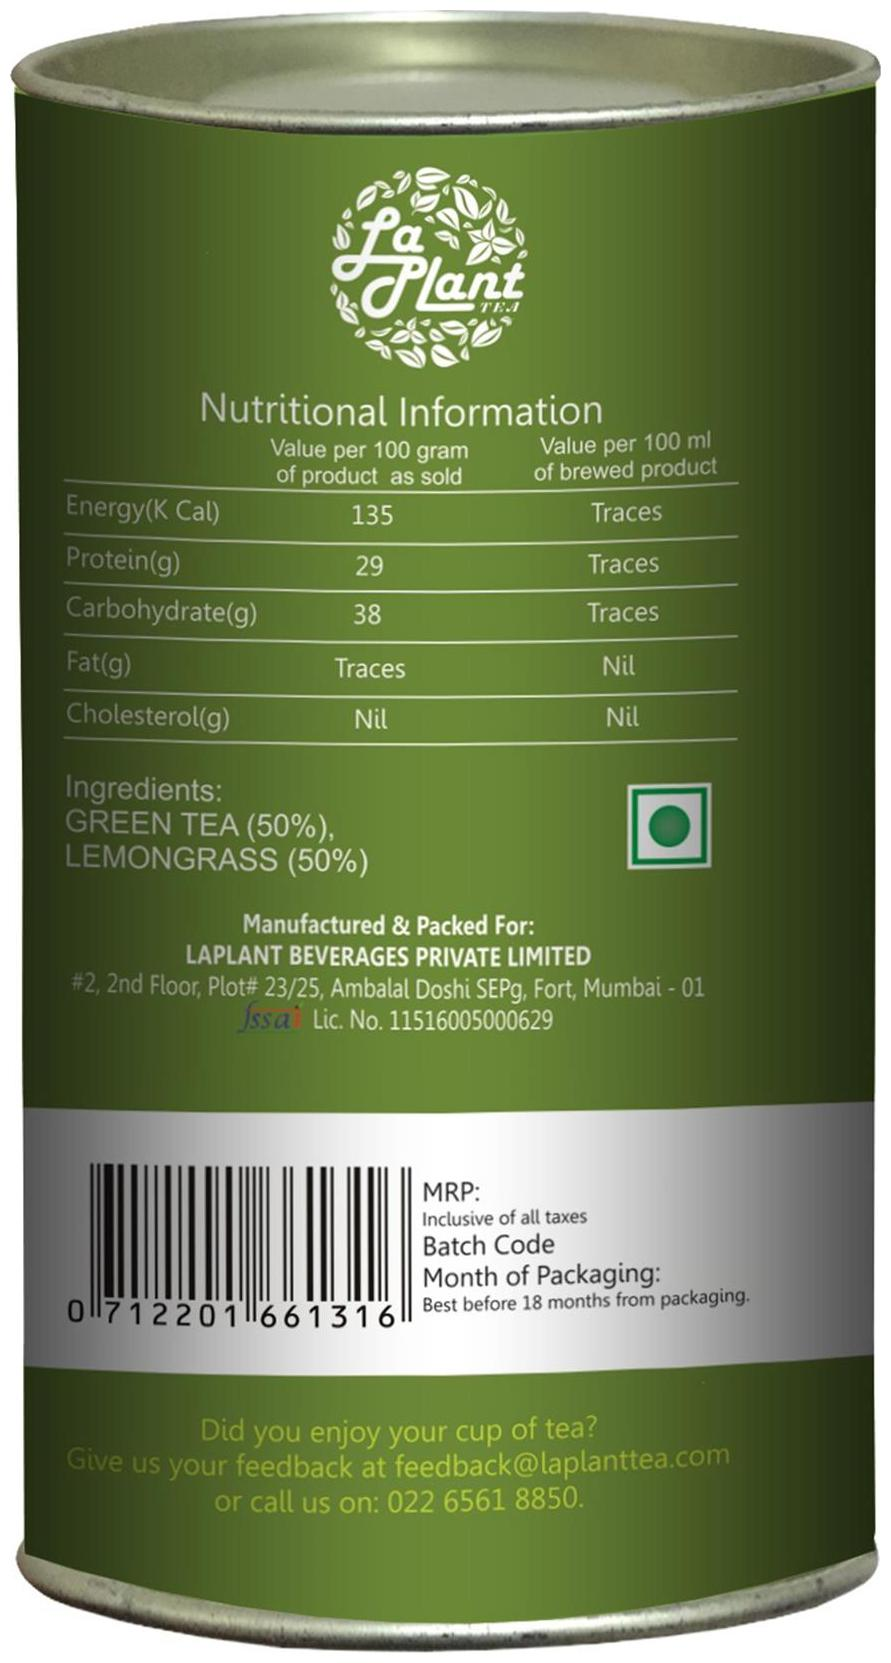fssai: (237, 1000, 304, 1033)
